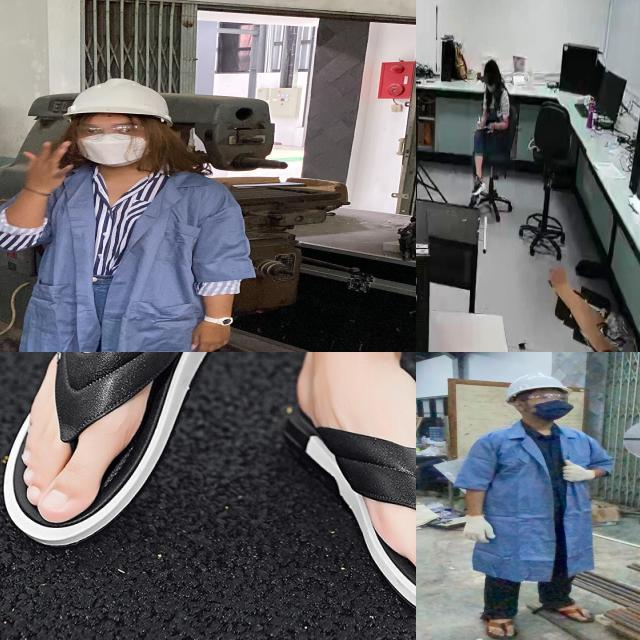Sandals: (2, 352, 244, 542), (306, 352, 416, 620)
face_mask: (67, 119, 162, 169), (524, 390, 574, 420)
glasses: (70, 122, 152, 141), (512, 392, 572, 404)
hand_glove: (459, 514, 500, 544), (555, 458, 597, 483)
hand_noglove: (18, 138, 81, 192), (186, 320, 236, 352), (475, 115, 485, 130), (486, 120, 496, 132)
head_helmet: (60, 76, 172, 122), (499, 371, 576, 398)
head_nohelmet: (484, 58, 499, 74)
person: (0, 75, 260, 352), (449, 367, 612, 640), (470, 61, 516, 199)
shoes: (471, 169, 485, 197)
